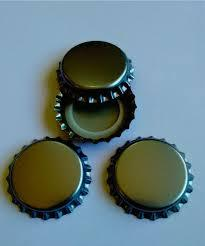Metal: (47, 38, 145, 144), (1, 126, 97, 224), (105, 138, 200, 231)
